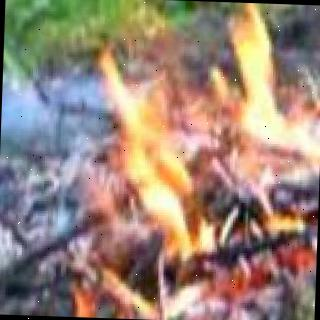fire: (65, 0, 215, 280), (221, 5, 320, 209)
